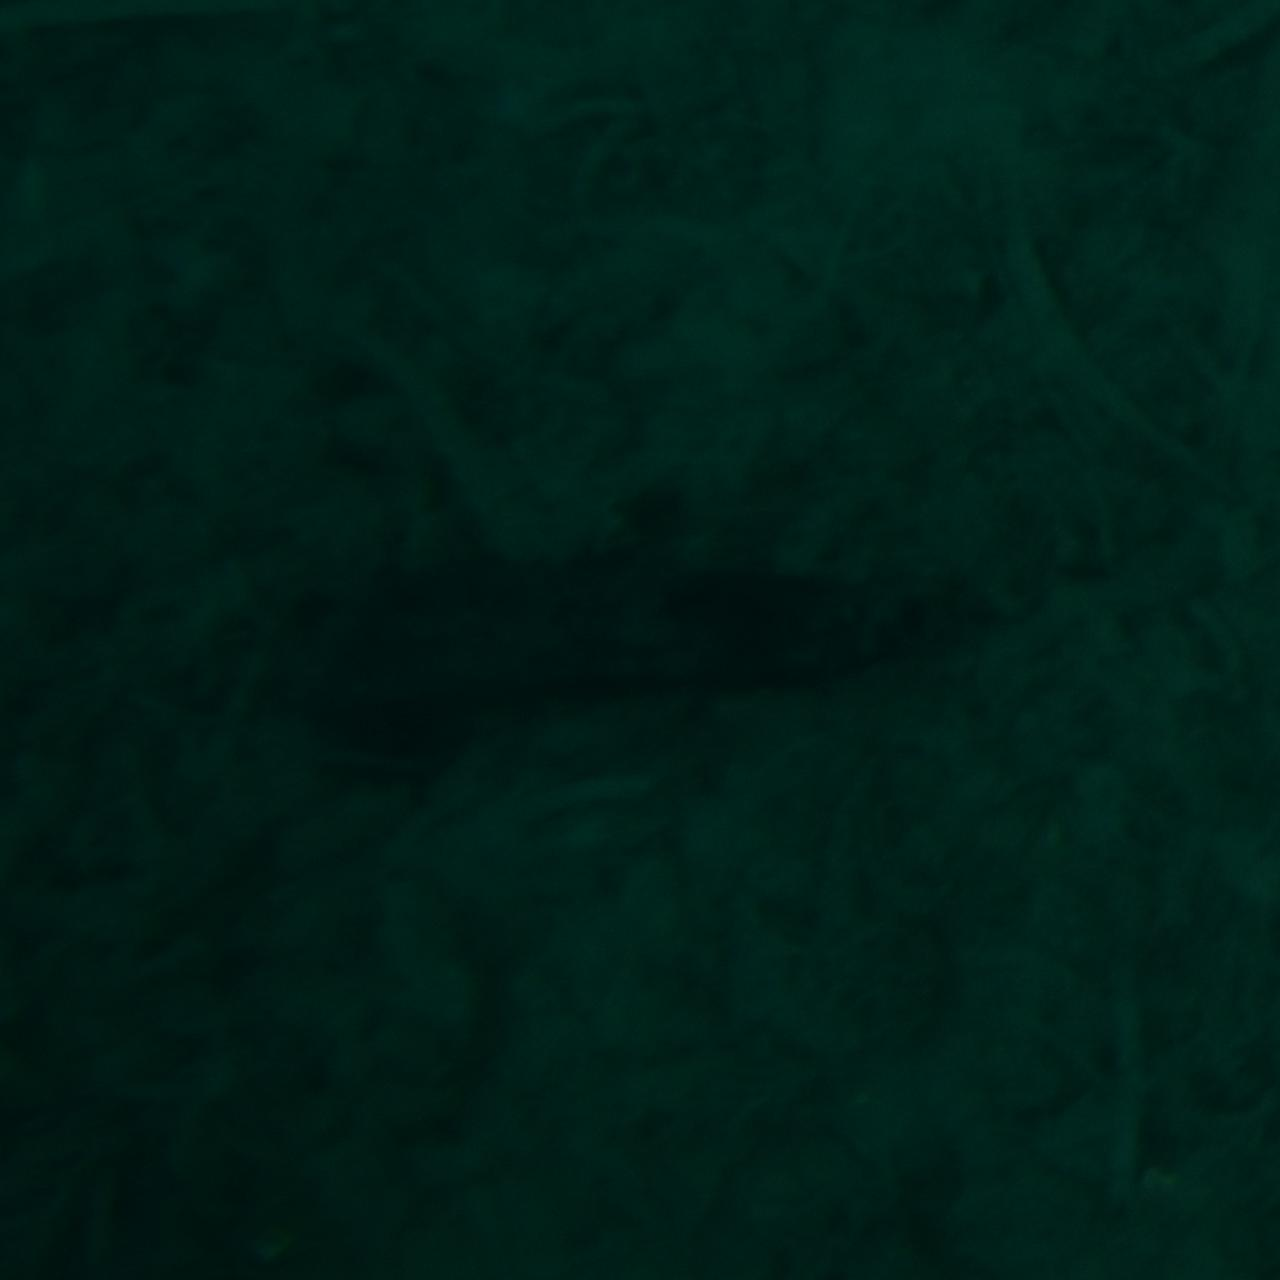Holothuria tubulosa: (267, 534, 1013, 746)
